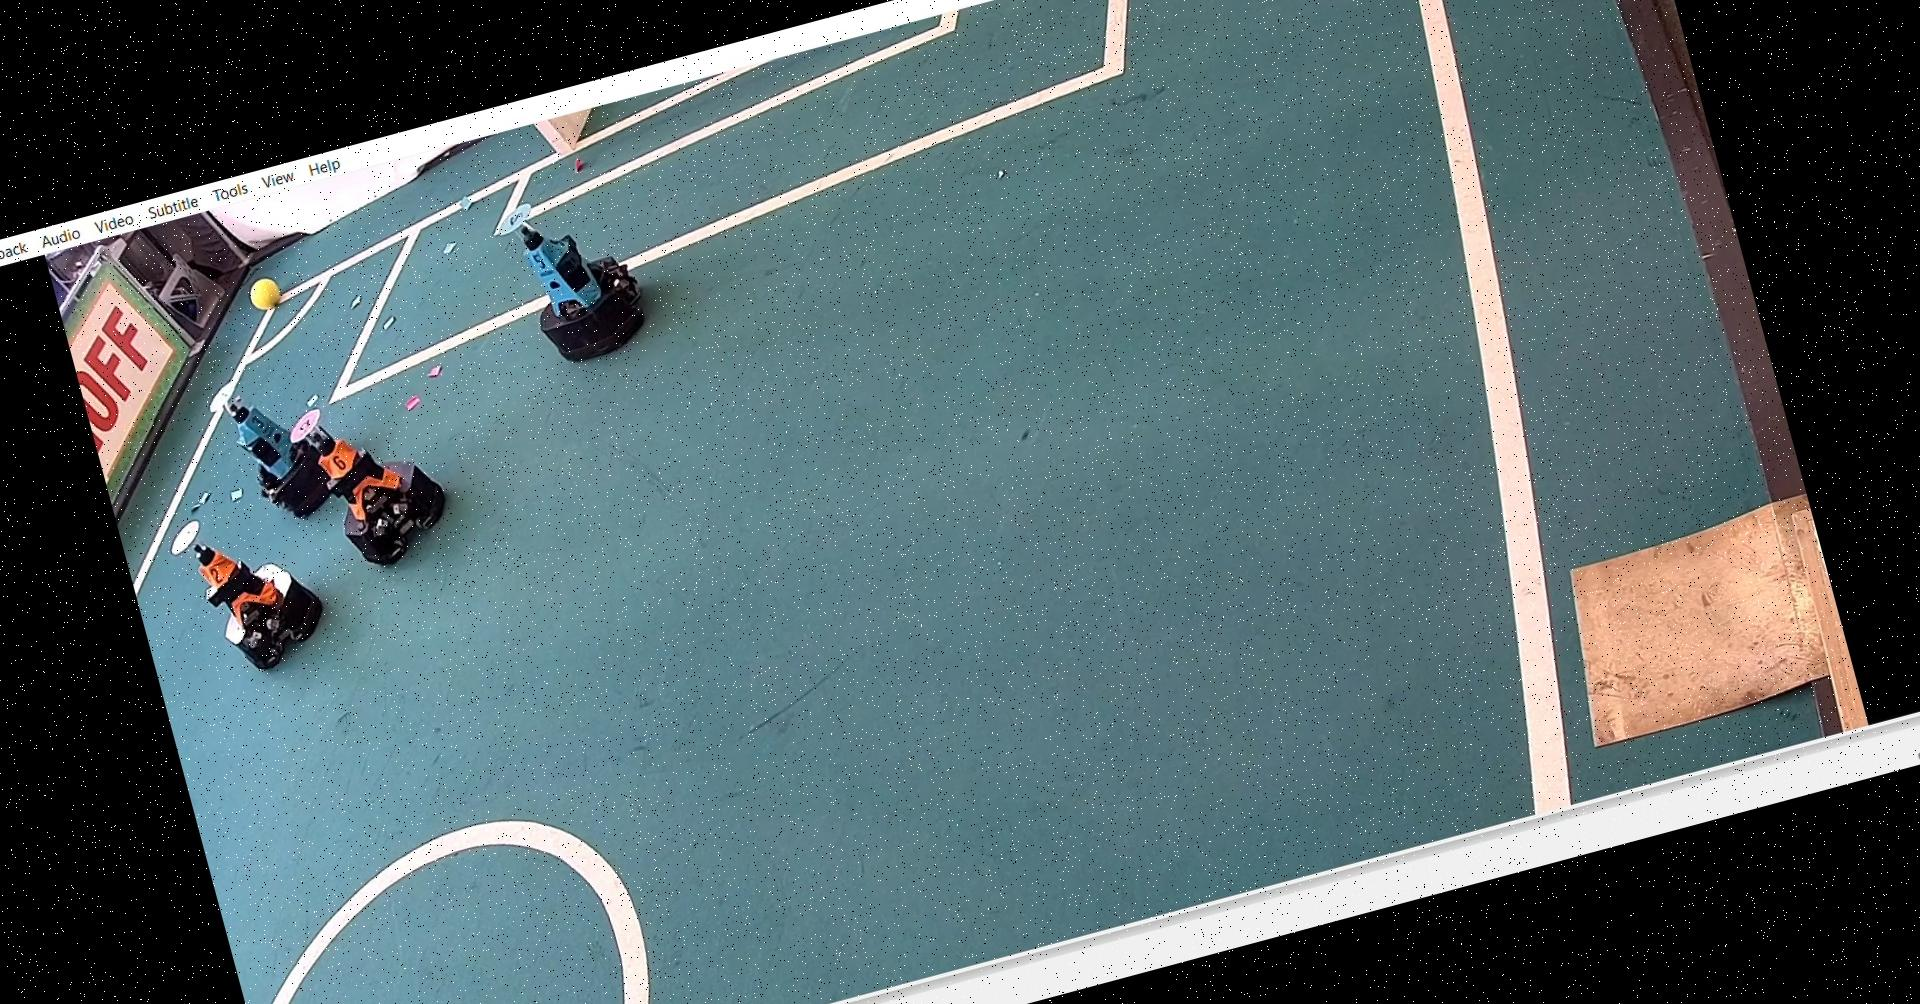Ball: (251, 270, 295, 311)
Team_Blue: (488, 168, 669, 378), (197, 354, 361, 533)
Team_Red: (161, 487, 340, 690), (293, 385, 458, 570)
